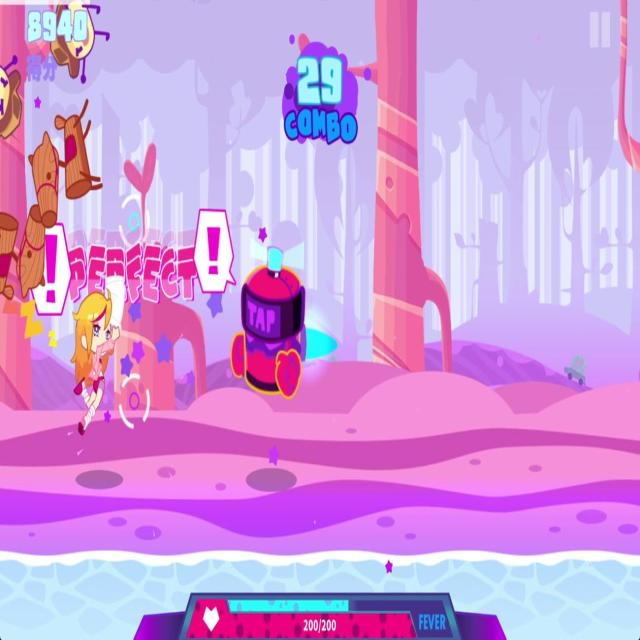tapboss: (229, 237, 312, 408)
